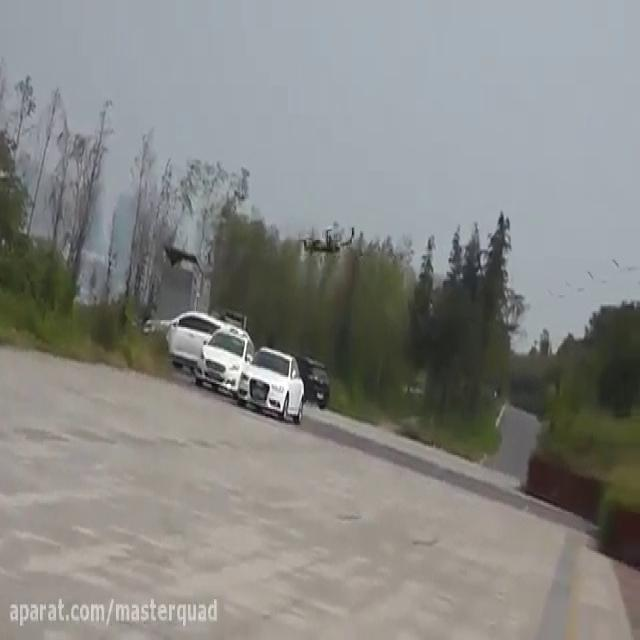drone: (295, 212, 358, 260)
